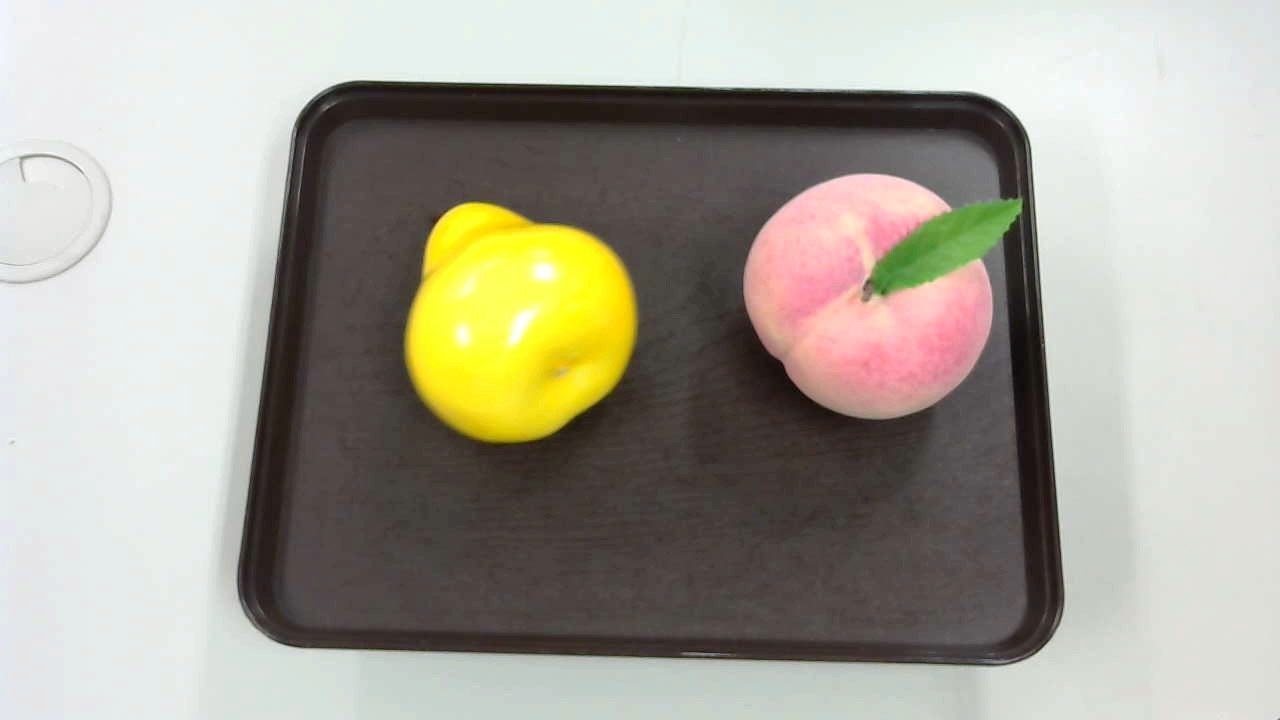peach: (737, 167, 1026, 418)
yellow pear: (402, 202, 647, 455)
